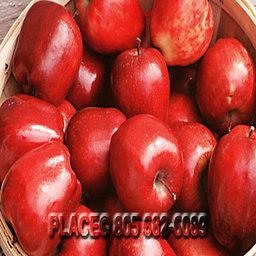apple: (1, 137, 82, 255), (107, 114, 185, 211), (13, 2, 84, 107), (63, 107, 126, 201), (208, 126, 256, 249), (195, 38, 254, 134), (1, 93, 64, 178), (167, 120, 217, 213), (110, 45, 169, 120), (148, 1, 215, 65), (75, 1, 145, 55)
